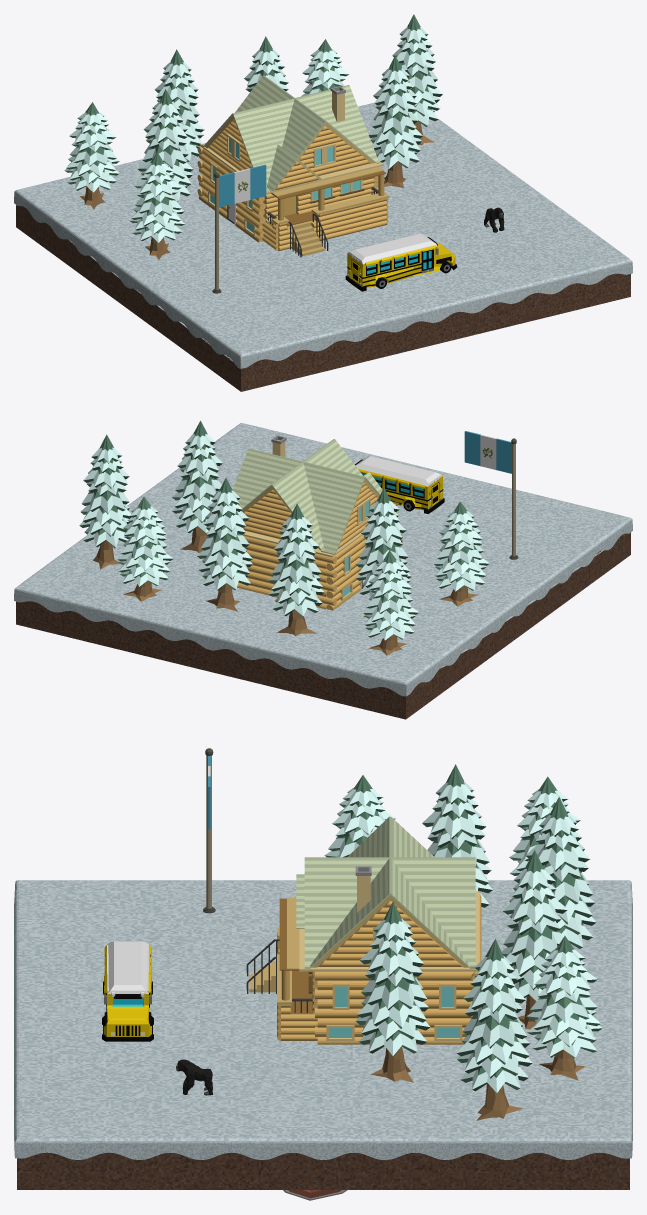
3 renders of one model, top to bottom at view 1: azimuth 30°, elevation 25°; view 2: azimuth 150°, elevation 25°; view 3: azimuth 270°, elevation 25°, orthographic. The views are drawn at different scales.
Parts seen in each view (by area): view 1: Cube.003, Cube.1516, VEHICLES_SCHOOL_BUS, OBJRANDOM_GUATEMALAN_FLAG; view 2: Cube.003, Cube.1516, VEHICLES_SCHOOL_BUS, OBJRANDOM_GUATEMALAN_FLAG; view 3: Cube.003, Cube.1516, VEHICLES_SCHOOL_BUS, OBJRANDOM_GUATEMALAN_FLAG, ANIMAL_GORILA.
Part boxes in pixels (x1,y1,x2,y2): Cube.003: [14, 14, 632, 391]; Cube.1516: [197, 75, 389, 257]; VEHICLES_SCHOOL_BUS: [345, 233, 457, 291]; OBJRANDOM_GUATEMALAN_FLAG: [212, 164, 266, 293]; Cube.003: [14, 420, 632, 719]; Cube.1516: [232, 435, 403, 610]; VEHICLES_SCHOOL_BUS: [355, 456, 444, 513]; OBJRANDOM_GUATEMALAN_FLAG: [464, 431, 518, 559]; Cube.003: [14, 764, 632, 1189]; Cube.1516: [246, 816, 481, 1044]; VEHICLES_SCHOOL_BUS: [102, 941, 153, 1041]; OBJRANDOM_GUATEMALAN_FLAG: [203, 748, 215, 913]; ANIMAL_GORILA: [176, 1059, 212, 1095].
Size of the model in its own units: 4040 by 2408 by 4040.
44 materials, 4 textured.
